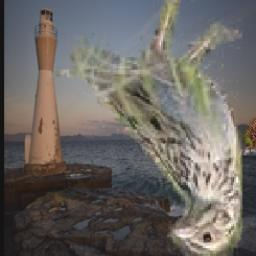Sparrow: (46, 0, 243, 256), (240, 119, 256, 157)
